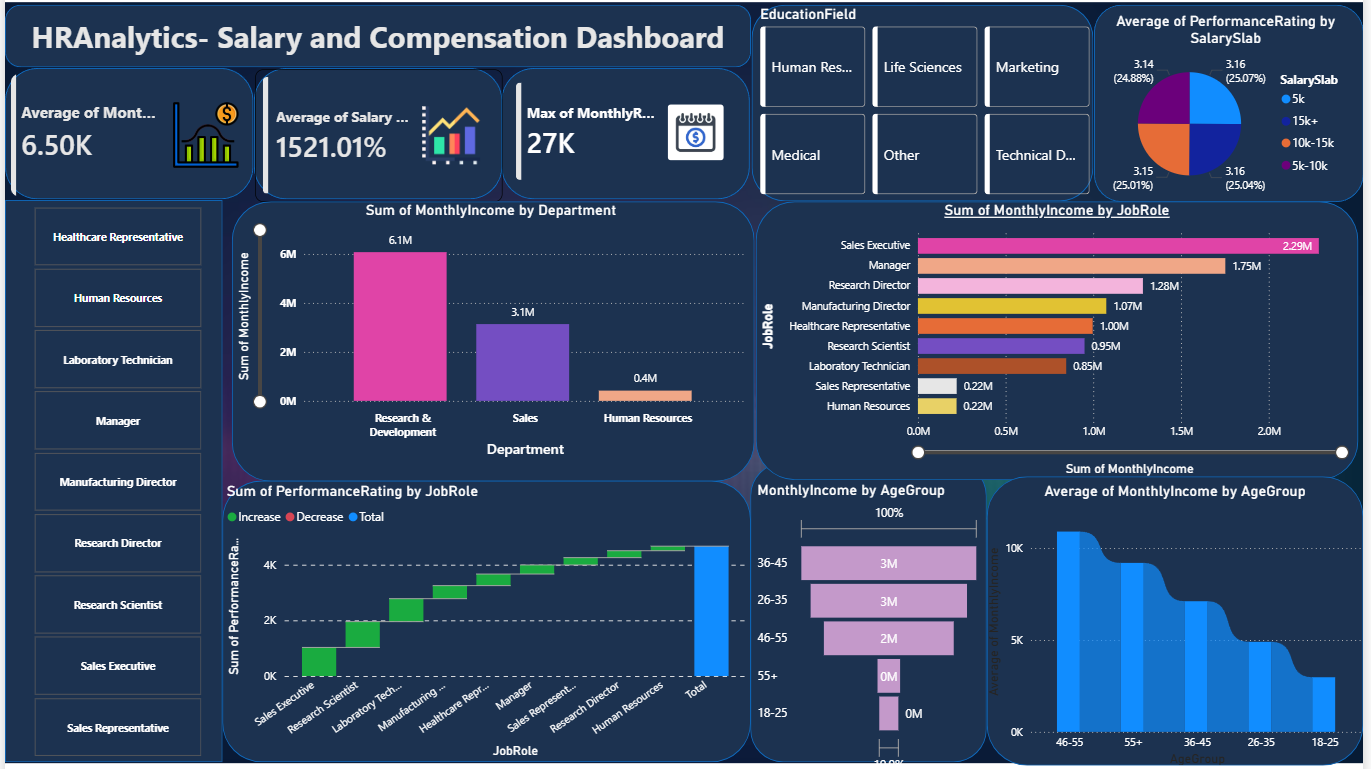

The page's visual inventory and layout, read from the dashboard file:
{"tool":"powerbi","page":{"name":"Salary and compensation ","canvas":[1550,900],"ordinal":0},"visuals":[{"type":"shape","box":[851,538.1,269.9,342.1],"z":0},{"type":"shape","box":[0,238.3,248.3,641.7],"z":1000},{"type":"shape","box":[0,88.6,283.5,149.8],"z":2000},{"type":"shape","box":[0,15.7,851.4,71.4],"z":3000},{"type":"cardVisual","fields":{"Data":["Avg(HR_Analytics.MonthlyIncome)"]},"box":[1.7,90,283.3,150],"z":4000},{"type":"shape","box":[283.5,88.6,283.5,149.8],"z":5000},{"type":"shape","box":[852.9,15.7,390,224.3],"z":6000},{"type":"shape","box":[567.1,88.6,283.5,149.8],"z":7000},{"type":"slicer","fields":{"Values":["HR_Analytics.JobRole"]},"box":[8.3,240,240,640],"z":8000},{"type":"shape","box":[1242.9,15.5,307.7,225.2],"z":9000},{"type":"cardVisual","fields":{"Data":["Avg(HR_Analytics.PercentSalaryHike)"]},"box":[285.4,89.4,281.9,151.3],"z":10000},{"type":"advancedSlicerVisual","fields":{"Values":["HR_Analytics.EducationField"]},"box":[856.1,15.5,386.8,221.8],"z":11000},{"type":"cardVisual","fields":{"Data":["Max(HR_Analytics.MonthlyRate)"]},"box":[566.7,88.3,283.3,145],"z":12000},{"type":"pieChart","fields":{"Category":["HR_Analytics.SalarySlab"],"Y":["Avg(HR_Analytics.PerformanceRating)"]},"box":[1242.9,24.1,300.8,216.6],"z":13000},{"type":"shape","box":[259.6,240.7,596.5,319.8],"z":14000},{"type":"shape","box":[247.5,558.7,603.4,321.5],"z":15000},{"type":"shape","box":[856.1,240.7,687.6,318],"z":16000},{"type":"clusteredColumnChart","fields":{"Category":["HR_Analytics.Department"],"Y":["Sum(HR_Analytics.MonthlyIncome)"]},"box":[259.6,240.7,591.4,297.4],"z":17000},{"type":"barChart","fields":{"Y":["Sum(HR_Analytics.MonthlyIncome)"],"Category":["HR_Analytics.JobRole"]},"box":[856.1,240.7,687.6,318],"z":18000},{"type":"waterfallChart","fields":{"Category":["HR_Analytics.JobRole"],"Y":["Sum(HR_Analytics.PerformanceRating)"]},"box":[247.5,560.4,603.4,319.8],"z":19000},{"type":"funnel","title":" MonthlyIncome by AgeGroup","fields":{"Y":["Sum(HR_Analytics.MonthlyIncome)"],"Category":["HR_Analytics.AgeGroup"]},"box":[854.4,558.7,264.7,340.4],"z":20000},{"type":"shape","box":[1120.8,553.5,429.8,330.1],"z":21000},{"type":"ribbonChart","fields":{"Category":["HR_Analytics.AgeGroup"],"Y":["Avg(HR_Analytics.MonthlyIncome)"]},"box":[1120.8,560.4,429.8,323.2],"z":22000}]}

Visuals, with their boxes on the page's 1550x900 design canvas (x1, y1, x2, y2). These are canvas units, not pixel positions in the 1371x769 screenshot, which may show the page scaled, cropped or inside an application window:
shape: Rect(851, 538, 1121, 880)
shape: Rect(0, 238, 248, 880)
shape: Rect(0, 89, 284, 238)
shape: Rect(0, 16, 851, 87)
cardVisual - Avg(HR_Analytics.MonthlyIncome): Rect(2, 90, 285, 240)
shape: Rect(284, 89, 567, 238)
shape: Rect(853, 16, 1243, 240)
shape: Rect(567, 89, 851, 238)
slicer - HR_Analytics.JobRole: Rect(8, 240, 248, 880)
shape: Rect(1243, 16, 1551, 241)
cardVisual - Avg(HR_Analytics.PercentSalaryHike): Rect(285, 89, 567, 241)
advancedSlicerVisual - HR_Analytics.EducationField: Rect(856, 16, 1243, 237)
cardVisual - Max(HR_Analytics.MonthlyRate): Rect(567, 88, 850, 233)
pieChart - HR_Analytics.SalarySlab x Avg(HR_Analytics.PerformanceRating): Rect(1243, 24, 1544, 241)
shape: Rect(260, 241, 856, 560)
shape: Rect(248, 559, 851, 880)
shape: Rect(856, 241, 1544, 559)
clusteredColumnChart - HR_Analytics.Department x Sum(HR_Analytics.MonthlyIncome): Rect(260, 241, 851, 538)
barChart - Sum(HR_Analytics.MonthlyIncome) x HR_Analytics.JobRole: Rect(856, 241, 1544, 559)
waterfallChart - HR_Analytics.JobRole x Sum(HR_Analytics.PerformanceRating): Rect(248, 560, 851, 880)
" MonthlyIncome by AgeGroup" funnel: Rect(854, 559, 1119, 899)
shape: Rect(1121, 554, 1551, 884)
ribbonChart - HR_Analytics.AgeGroup x Avg(HR_Analytics.MonthlyIncome): Rect(1121, 560, 1551, 884)
